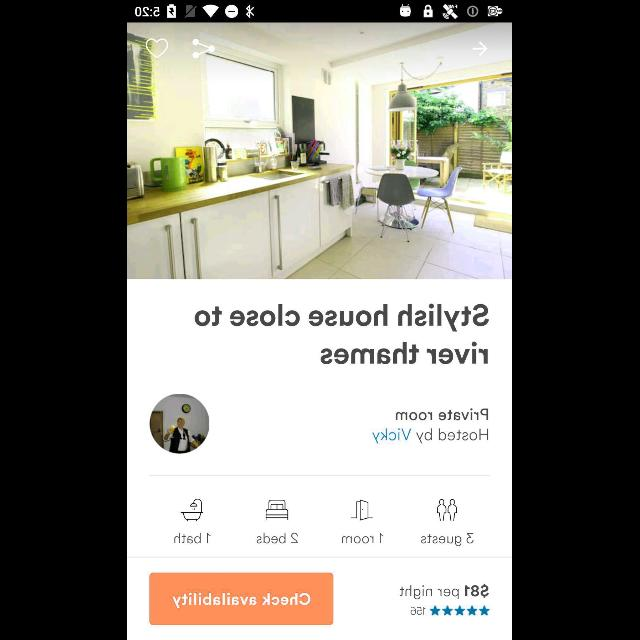icon: (430, 606, 490, 616), (146, 39, 170, 60), (192, 39, 215, 60), (473, 41, 489, 57)
image: (128, 23, 512, 279), (150, 394, 210, 454), (180, 498, 203, 522), (352, 499, 374, 521), (266, 500, 290, 520), (438, 498, 458, 522)
text: (195, 304, 490, 364), (372, 428, 490, 444), (400, 582, 490, 600), (396, 408, 489, 422), (422, 533, 474, 547), (257, 532, 299, 544), (343, 532, 385, 544), (174, 532, 212, 544), (410, 606, 428, 616)
textbutton: (150, 572, 334, 626)
uppertaskbar: (128, 1, 512, 23)
